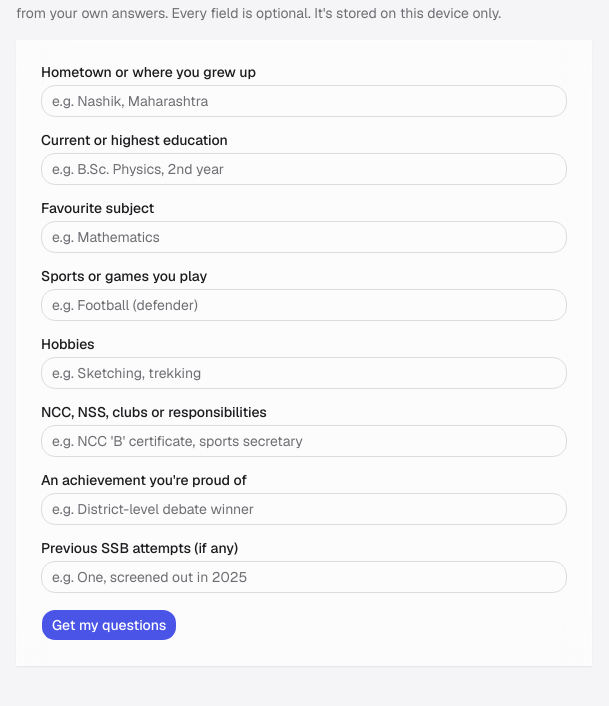
Test: PiqInterview › shows a validation error instead of questions for an empty PIQ
The image size is (609, 706).
(page scrolled)
What coordinates should you click on to do the following:
click the button "Get my questions"
I would click on:
 (109, 625)
Its box is [41,609,177,641].
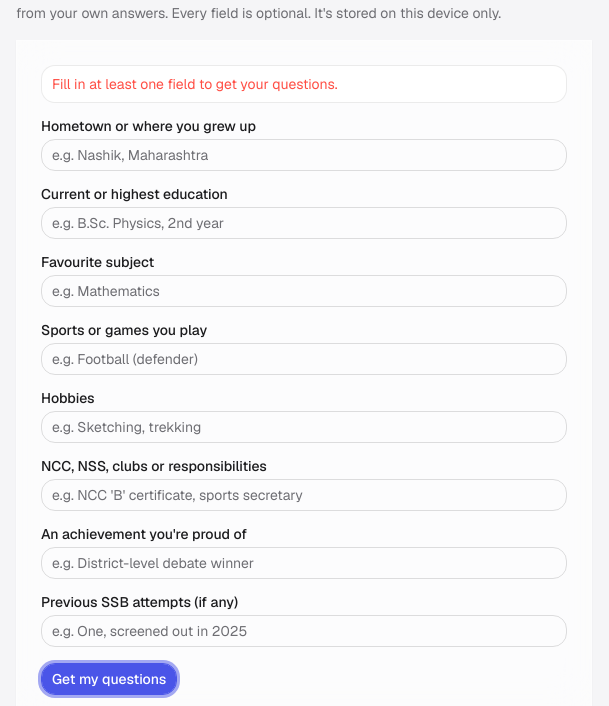
expect the text "Fill in at least one field to get your questions." is shown: met, box [52,75,338,93]
